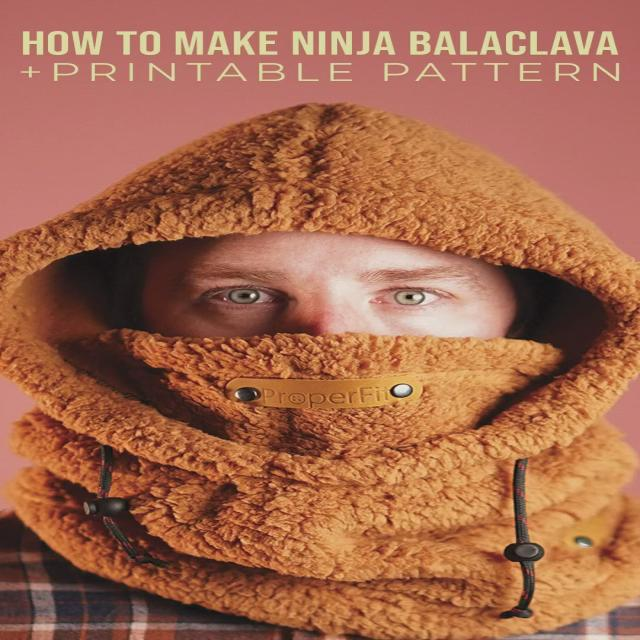4_capucha: (0, 100, 640, 363)
